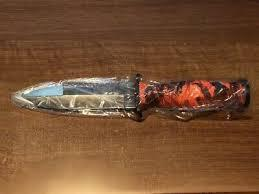Knife: (10, 74, 252, 121)
